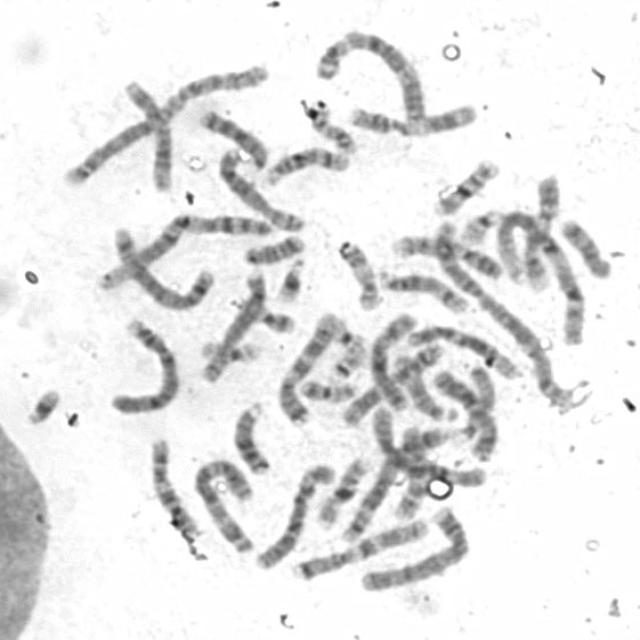A1: (90, 208, 275, 292), (488, 207, 588, 347)
A2: (427, 215, 577, 407), (54, 57, 272, 188)
A3: (310, 26, 429, 124), (186, 454, 259, 554)
B4: (355, 501, 473, 594), (105, 312, 181, 416)
B5: (336, 420, 456, 544), (106, 221, 216, 311)
C10: (144, 432, 203, 539), (389, 421, 431, 522)
C11: (336, 336, 450, 428), (342, 96, 480, 138)
C12: (402, 318, 524, 382), (116, 74, 178, 194)
C6: (368, 402, 490, 490), (250, 458, 336, 572)
C7: (286, 512, 432, 583), (269, 307, 339, 427)
C8: (196, 263, 269, 385), (213, 143, 308, 233)
C9: (387, 228, 505, 280), (520, 170, 564, 292)
D13: (195, 104, 272, 172), (227, 396, 274, 476)
D14: (373, 264, 472, 315), (258, 140, 352, 188)
D15: (386, 347, 458, 425), (452, 358, 501, 452)
E16: (312, 450, 374, 530), (428, 153, 503, 217)
E17: (333, 234, 383, 312), (299, 97, 358, 155)
E18: (554, 213, 615, 280), (238, 230, 307, 266)
F19: (195, 335, 261, 365), (327, 313, 368, 352)
F20: (229, 293, 298, 335), (294, 373, 360, 404)
G21: (19, 382, 64, 427), (270, 252, 308, 305)
G22: (455, 203, 504, 246), (323, 338, 367, 383)
X: (429, 362, 503, 462), (365, 308, 416, 413)
